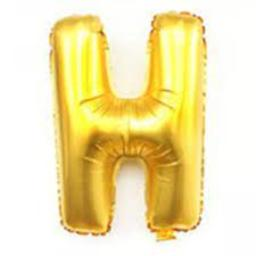h: (44, 2, 216, 256)
